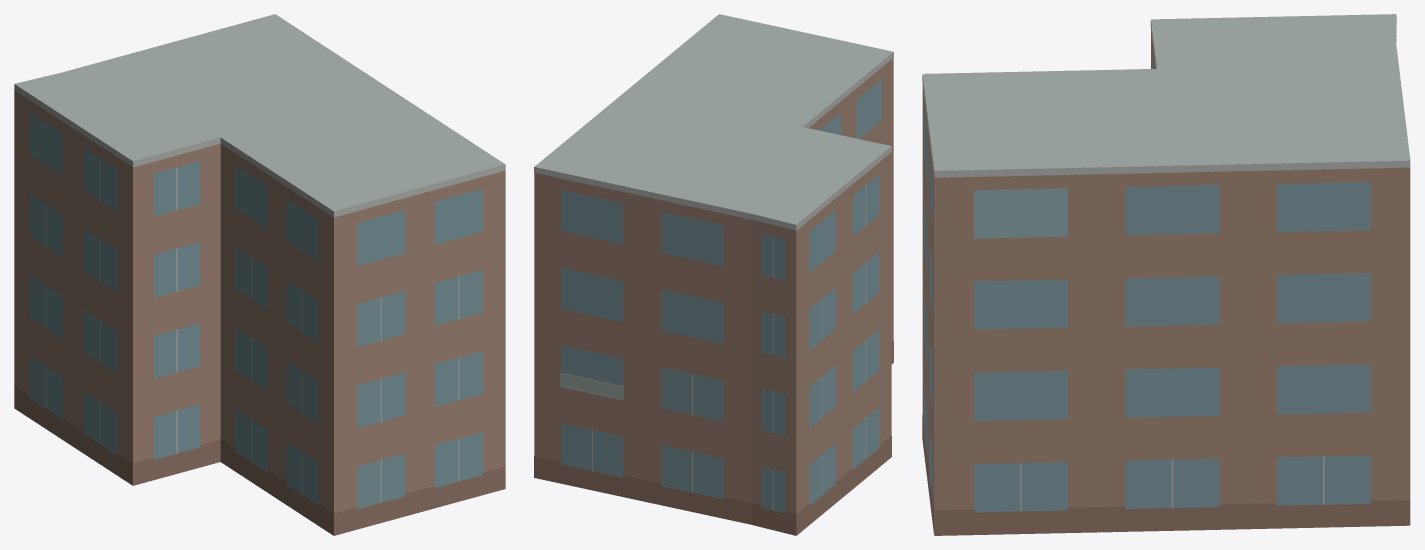
The model's file is survey-upis-32764094.glb.
The picture shows the model from 3 angles, left to right: view 1: azimuth 30°, elevation 25°; view 2: azimuth 150°, elevation 25°; view 3: azimuth 270°, elevation 25°; orthographic projection. The views are drawn at different scales.
Parts seen in each view (by area): view 1: survey-upis-32764094.tmp; view 2: survey-upis-32764094.tmp; view 3: survey-upis-32764094.tmp.
Part boxes in pixels (x1,y1,x2,y2): survey-upis-32764094.tmp: (14, 14, 505, 535); survey-upis-32764094.tmp: (534, 14, 893, 535); survey-upis-32764094.tmp: (922, 14, 1410, 535).
Size of the model in its own units: 11.95 by 12.95 by 15.71.
